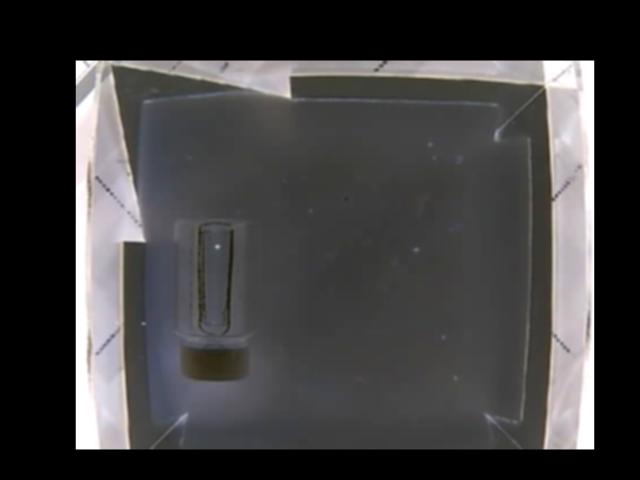Bottle: (168, 215, 255, 383)
